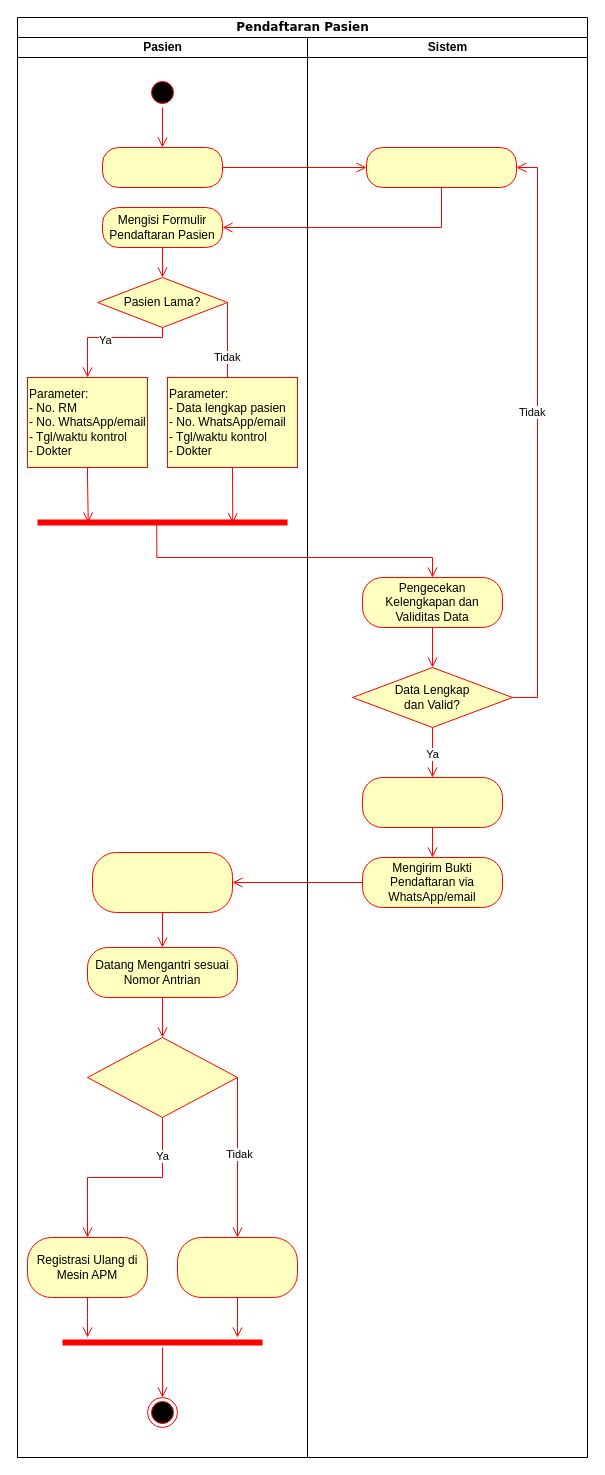
This 605x1475 diagram has some shape labels left out. Each missing label, with the centre of its shape:
Membuka Website Pendaftaran: pixel 162 167
Menampilkan Halaman Konfirmasi Pendaftaran: pixel 432 802
Menampilkan Halaman Pendaftaran: pixel 441 167
Menerima Bukti Pendaftaran dan Nomor Antrian: pixel 162 882
Pasien Lama BPJS?: pixel 162 1077
Registrasi Ulang di Loket Pendaftaran Online: pixel 237 1267
